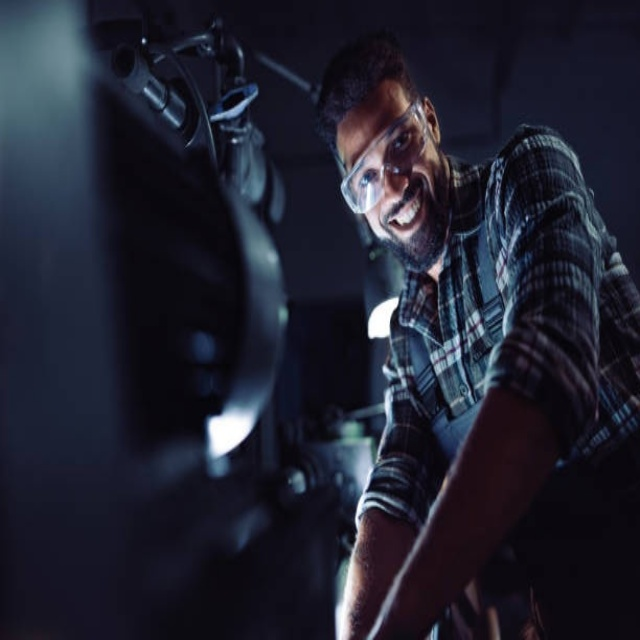Gafas: (339, 97, 431, 213)
Sin_mascara: (386, 184, 431, 243)
